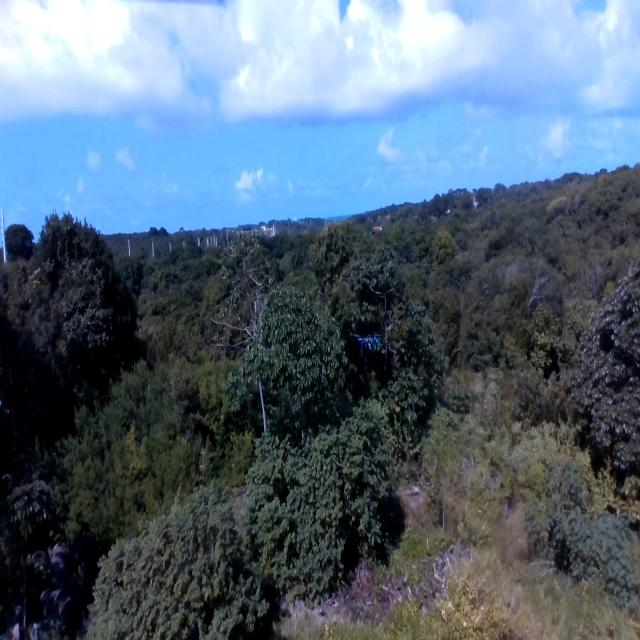-uav-: (355, 323, 384, 363)
